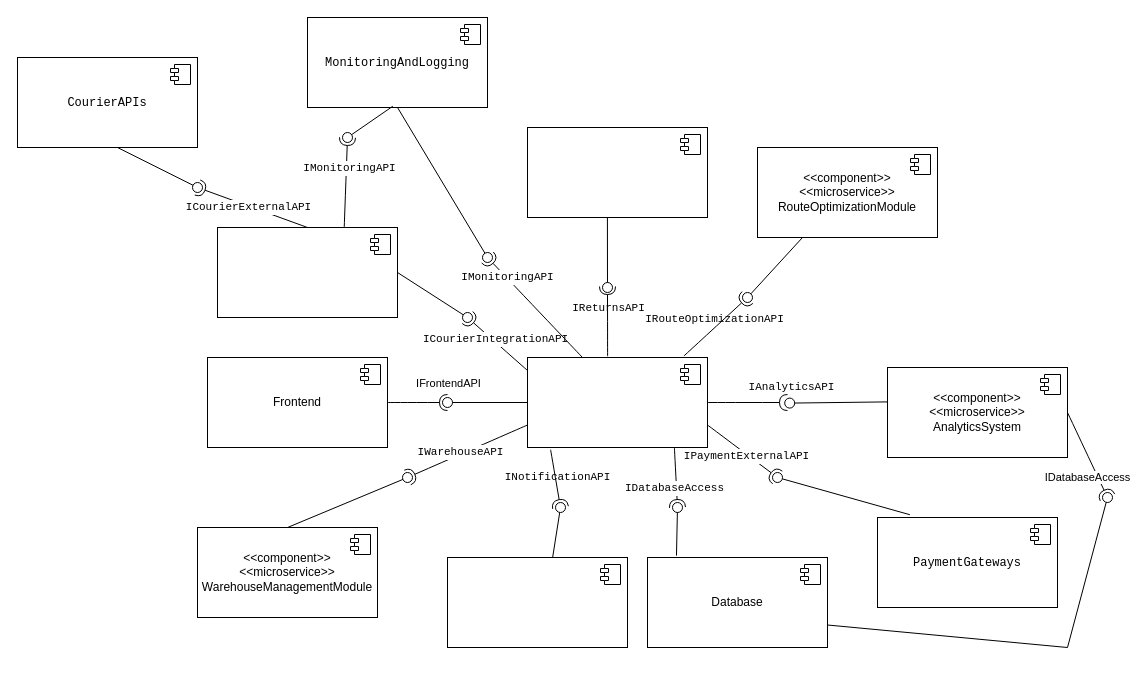
The diagram is 1148 pixels wide and 677 high, and some of its shapes have lost their labels. Each missing label, with the centre of its shape:
<<component>> <<microservice>> Backend: (617,402)
<<component>> <<microservice>> CourierIntegrationModule: (307,272)
<<component>> <<microservice>> NotificationSystem: (537,602)
<<component>> <<microservice>> ReturnsService: (617,172)
